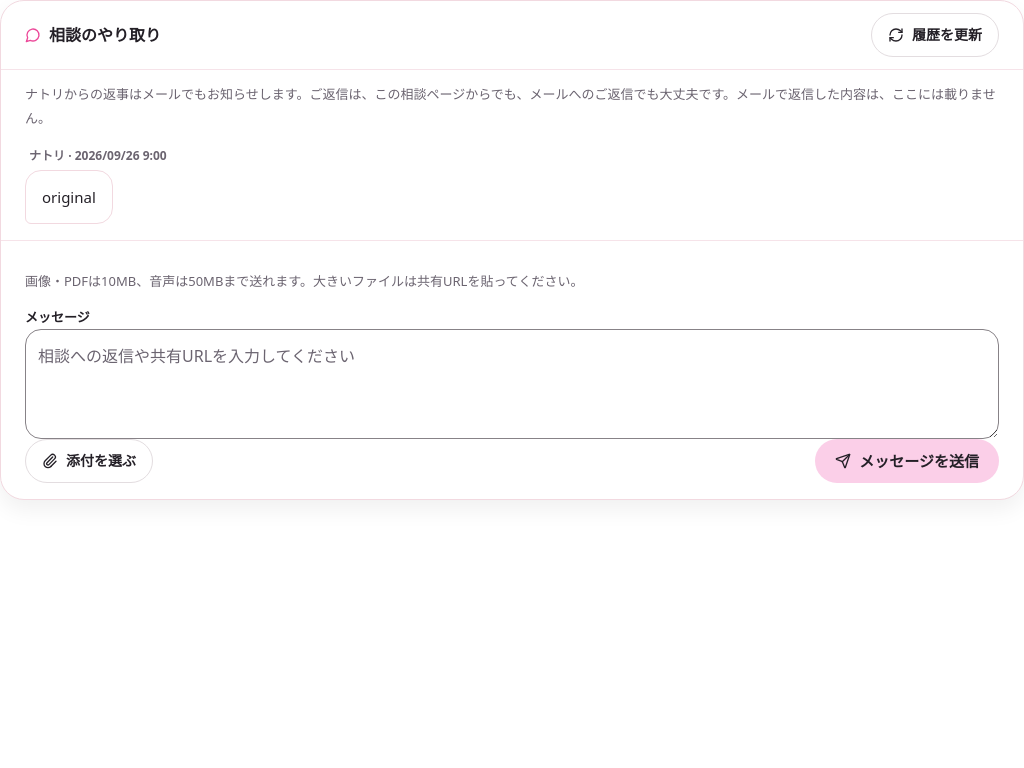
it: consultation history refresh › shows a saved-send/history-error distinction without offering a blind resend
Type "saved" into the text box at (512, 384), box [25,329,999,439]
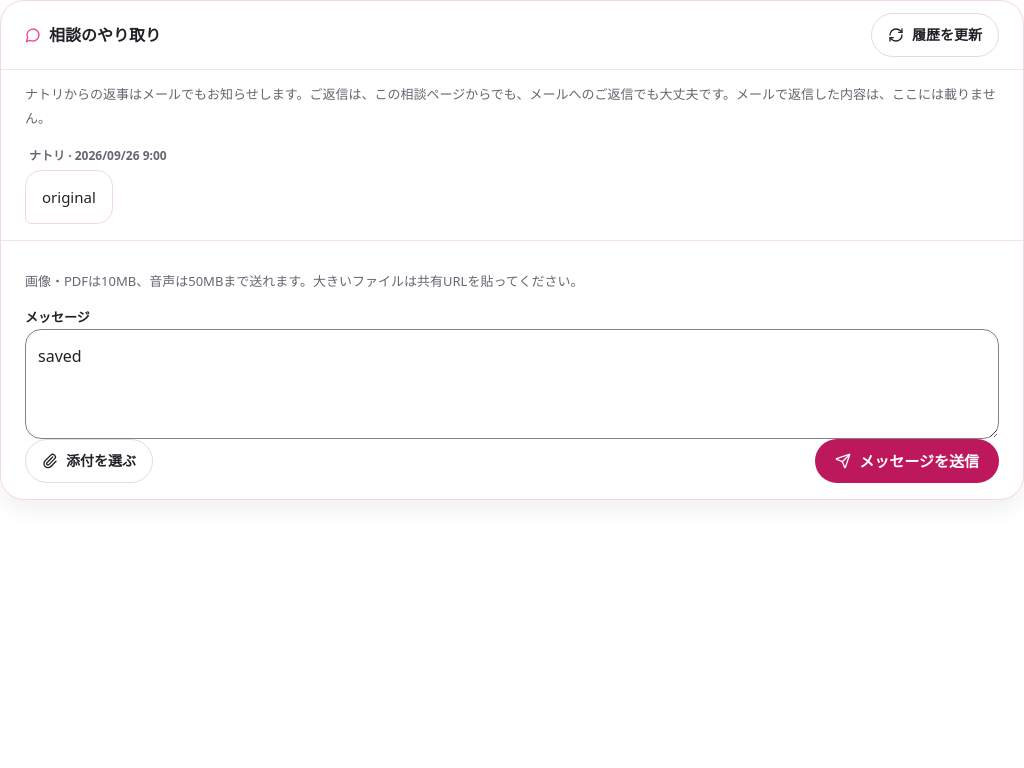
Click the button "メッセージを送信" at (907, 461), box [815,439,999,483]
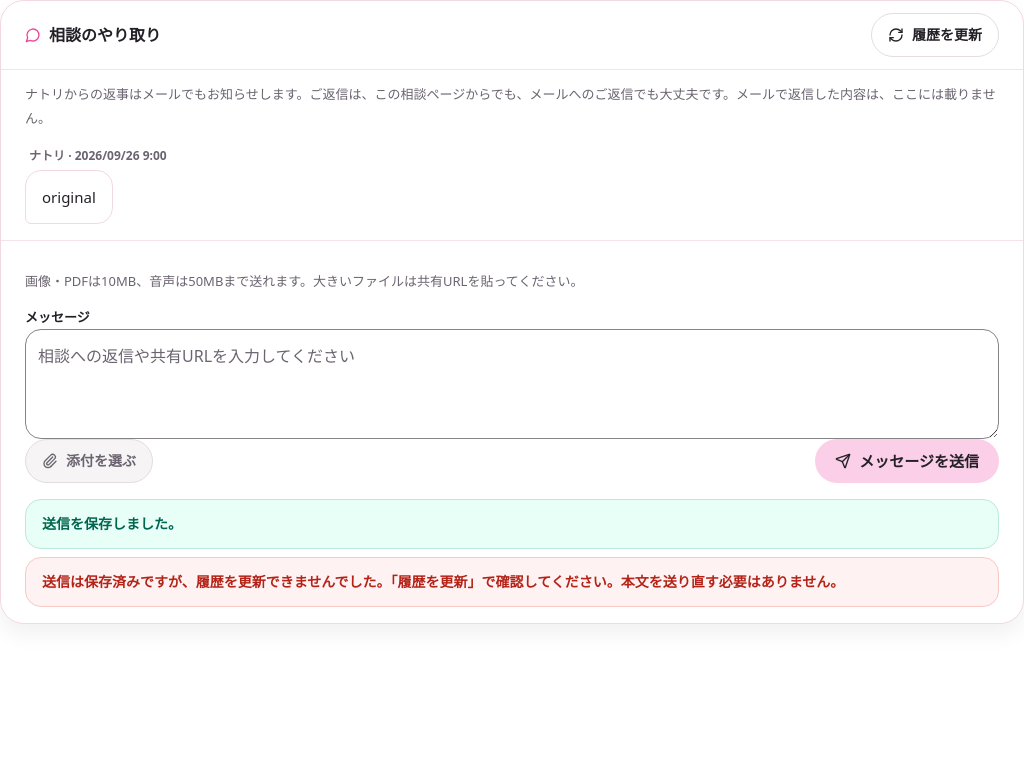
Expected: the text "original" is shown, [42,187,96,207]
Expected: the message "送信は保存済みですが、履歴を更新できませんでした。「履歴を更新」で確認してください。本文を送り直す必要はありません。" is shown, [25,557,999,607]
Expected: the button "メッセージを送信" is disabled, [815,439,999,483]
